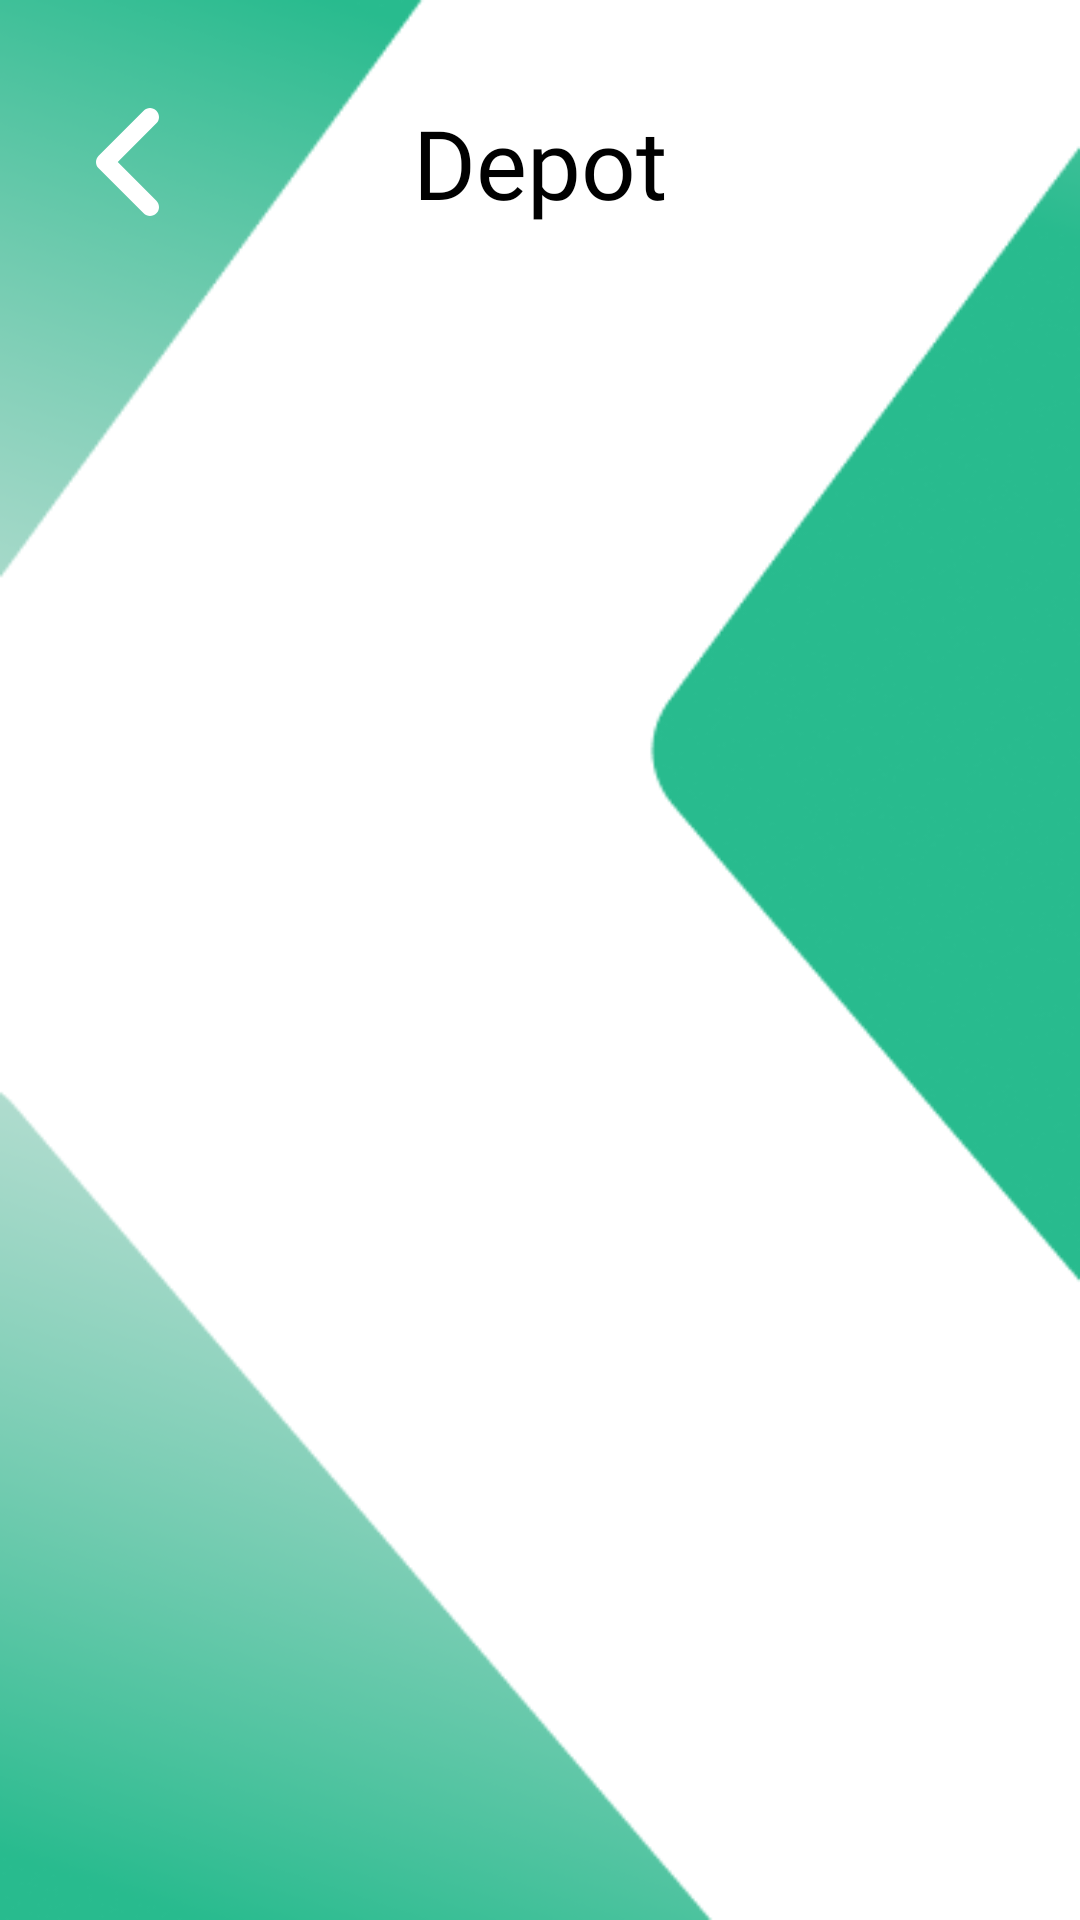

Locate icon controls on the screen. Image size 1080x1920, boxes as {"left": x1, "top": y1, "right": x2, "bottom": y2}.
arrow left: {"left": 96, "top": 90, "right": 168, "bottom": 216}
